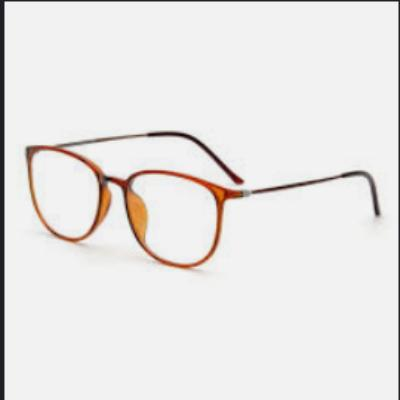glasses: (21, 128, 384, 272)
